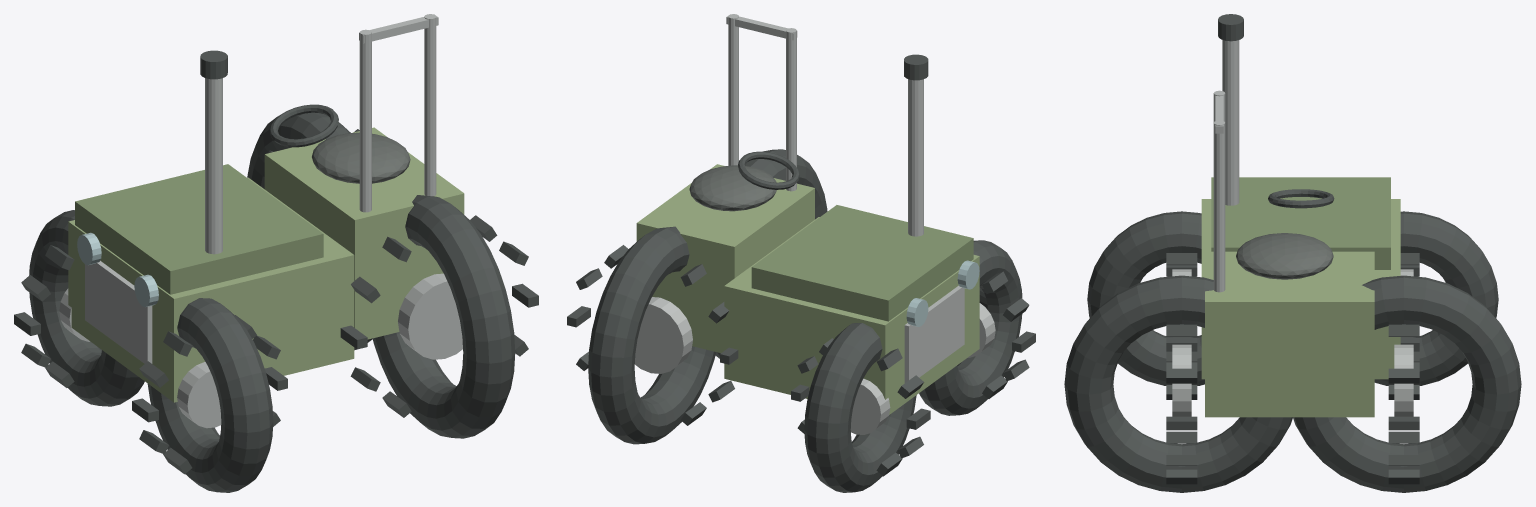
The model's file is tractor.glb.
3 renders of one model, left to right at view 1: azimuth 30°, elevation 25°; view 2: azimuth 150°, elevation 25°; view 3: azimuth 270°, elevation 25°, orthographic. The views are drawn at different scales.
Parts seen in each view (by area): view 1: hoodTop, hood, tire3, rearBody, tire1, tire0, grille, hub3, seat, exhaust, rollbar0.32, rollbar0.75 (+7 smaller); view 2: hoodTop, hood, tire2, rearBody, tire0, tire1, grille, hub2, seat, exhaust, rollbar0.75, rollbar0.32 (+8 smaller); view 3: rearBody, tire2, tire3, hoodTop, tire1, tire0, seat, hood, exhaust, rollbar0.75, hub2, hub3 (+6 smaller).
Part boxes in pixels (box(x1,y1,x2,y2)): hoodTop: box(75, 164, 323, 294); hood: box(68, 177, 354, 402); tire3: box(372, 195, 515, 438); rearBody: box(264, 127, 464, 339); tire1: box(147, 298, 273, 492); tire0: box(29, 210, 144, 406); grille: box(85, 260, 152, 363); hub3: box(398, 273, 462, 359); seat: box(312, 132, 410, 183); exhaust: box(205, 78, 222, 254); rollbar0.32: box(359, 29, 371, 212); rollbar0.75: box(424, 14, 436, 196); hoodTop: box(751, 205, 973, 321); hood: box(724, 217, 979, 414); tire2: box(588, 226, 716, 444); rearBody: box(636, 164, 814, 352); tire0: box(804, 323, 916, 492); tire1: box(919, 240, 1022, 415); grille: box(904, 285, 964, 382); hub2: box(635, 297, 692, 373); seat: box(689, 165, 776, 211); exhaust: box(908, 79, 923, 236); rollbar0.75: box(728, 14, 738, 165); rollbar0.32: box(786, 28, 796, 191); rearBody: box(1205, 251, 1374, 417); tire2: box(1293, 275, 1521, 492); tire3: box(1064, 275, 1292, 492); hoodTop: box(1211, 177, 1390, 269); tire1: box(1087, 211, 1204, 385); tire0: box(1374, 211, 1498, 385); seat: box(1236, 233, 1333, 279); hood: box(1201, 199, 1400, 379); exhaust: box(1222, 40, 1239, 205); rollbar0.75: box(1213, 120, 1225, 292); hub2: box(1394, 344, 1413, 416); hub3: box(1172, 344, 1191, 416).
Size of the model in its own units: 2.6 by 2.57 by 2.8.
